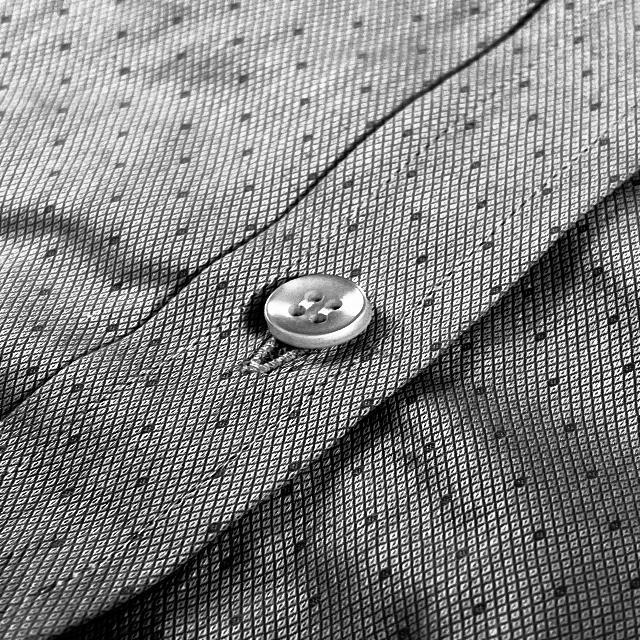Button_hike: (241, 272, 385, 369)
